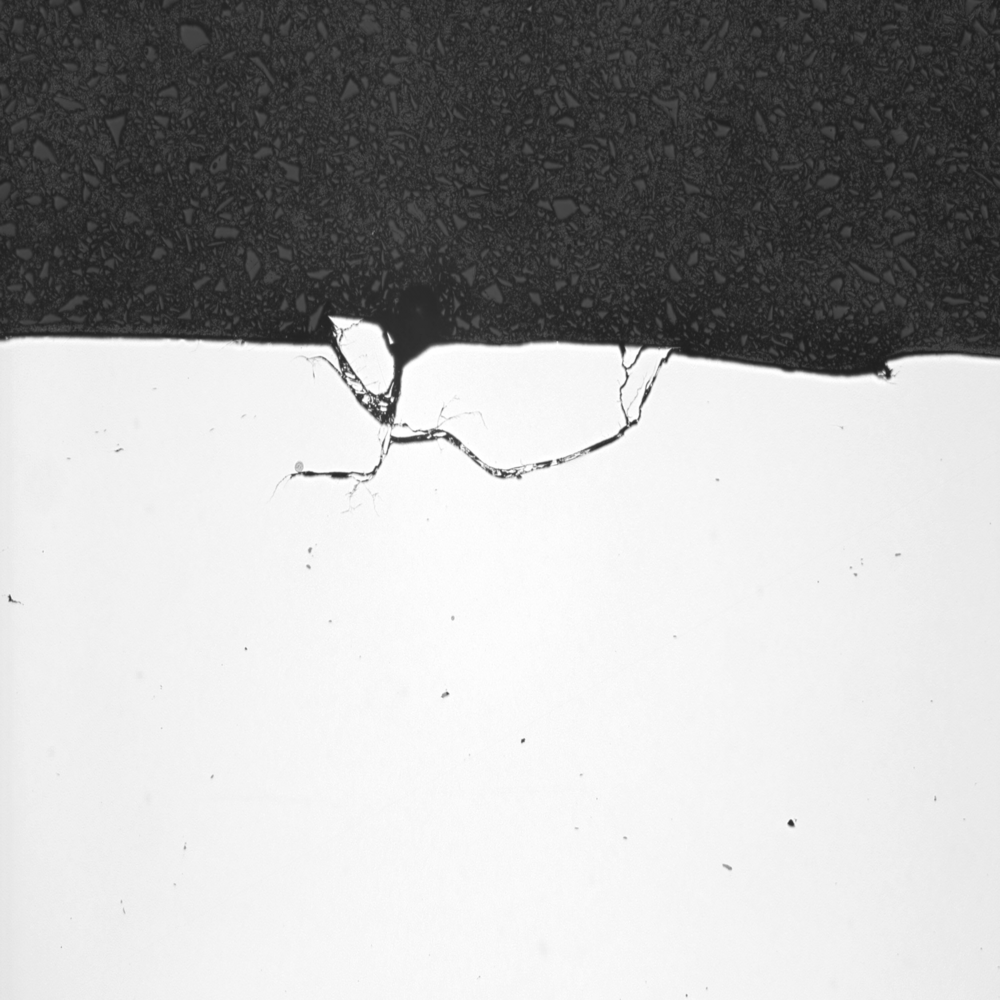crack: (271, 320, 687, 513)
